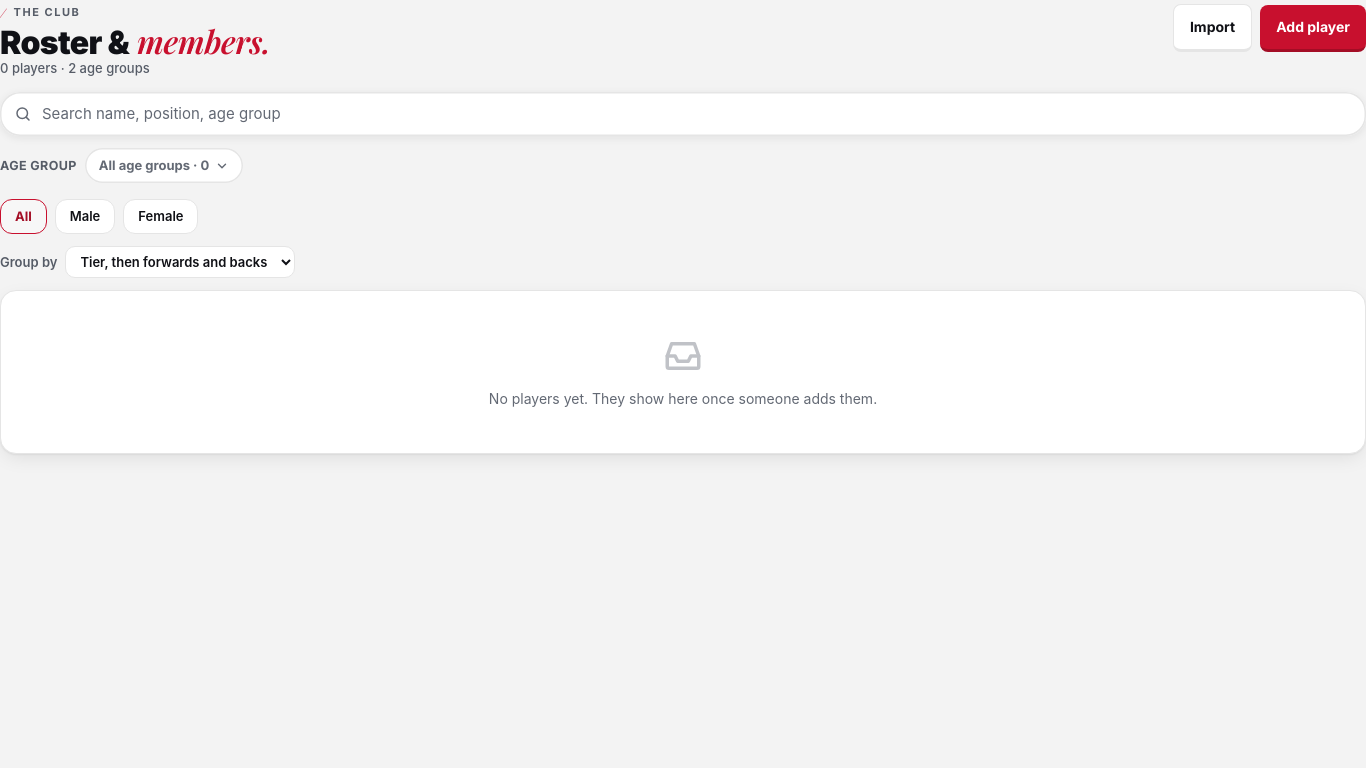
Test: Import — writing › closes and refreshes the roster on success
The image size is (1366, 768).
Click the button "Import" at (1212, 28), box [1173,4,1252,52]
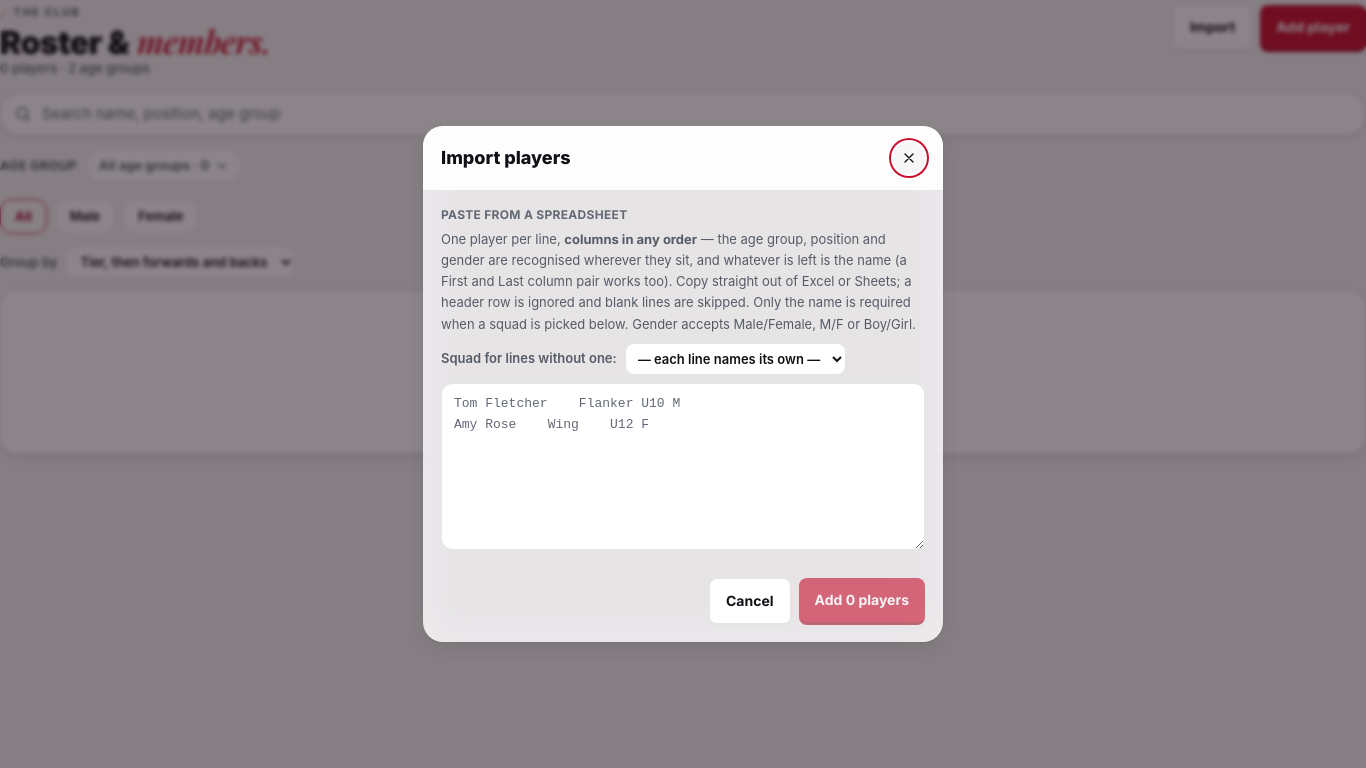
Type "Tom Fletcher,Flanker,U10" into the text box with test id "import-paste" at (683, 466), box [441,383,925,550]
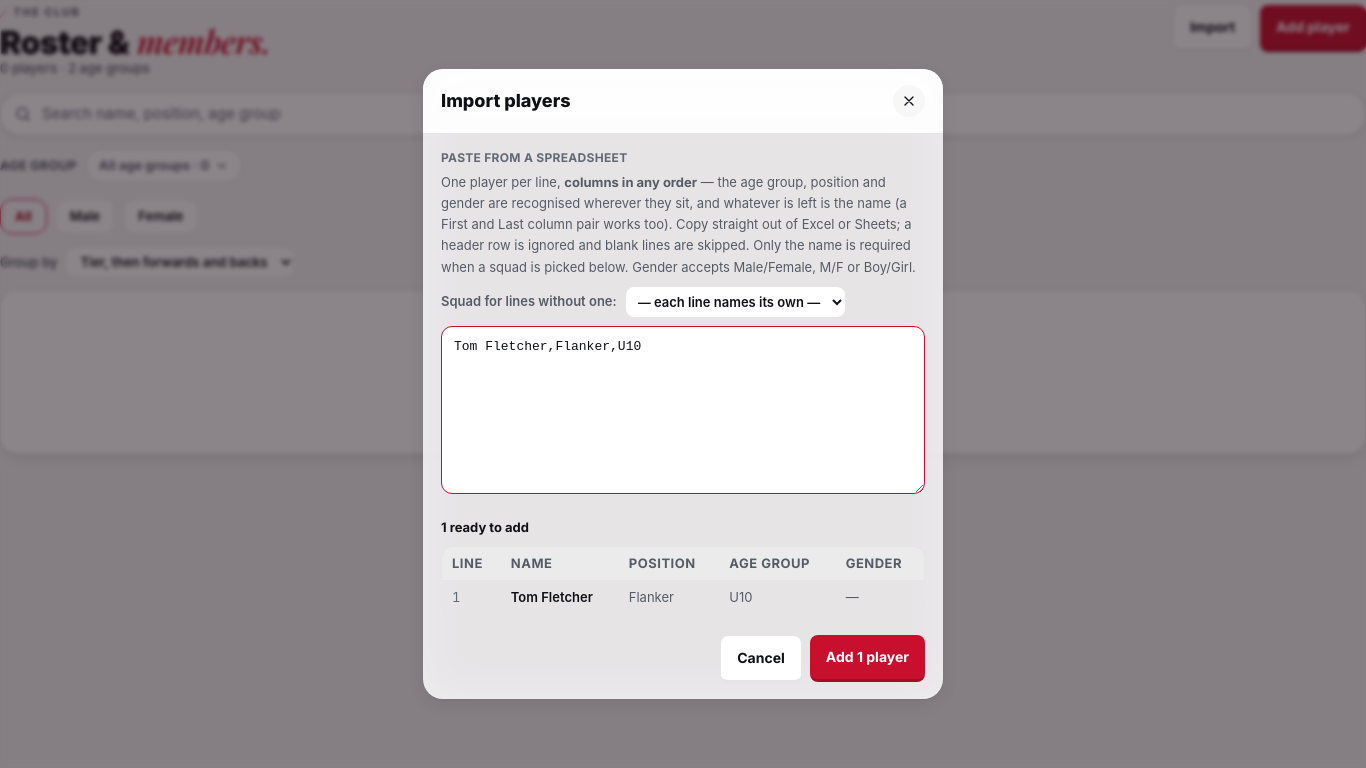
Click the button with test id "import-submit" at (867, 659), box [810,635,925,682]
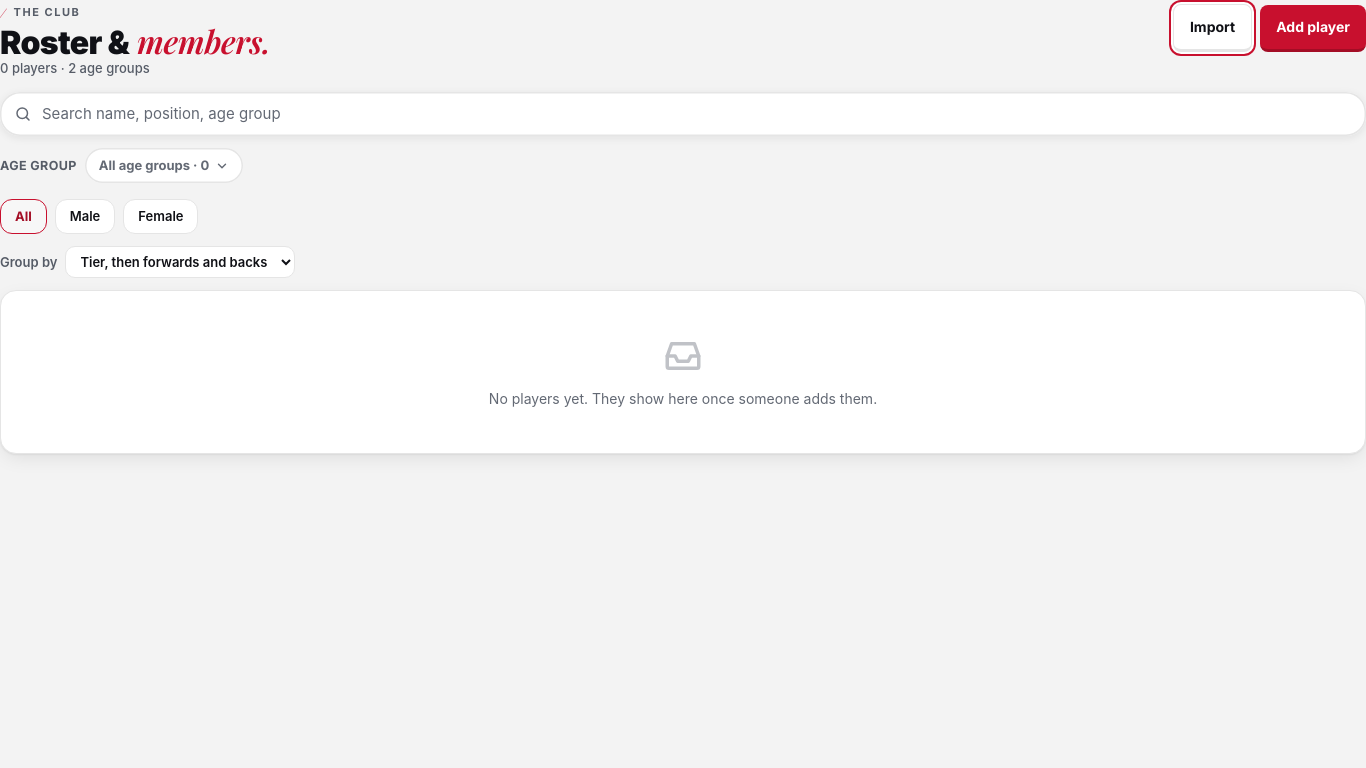
Expected: the label with test id "import-paste" is gone
